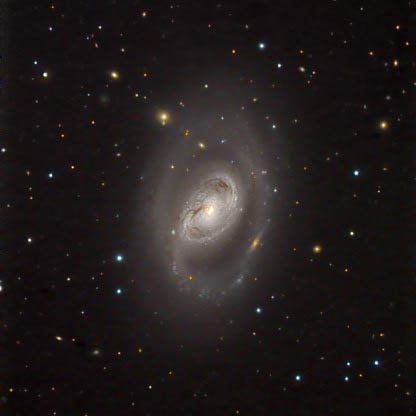Messier 96: (125, 84, 285, 315)
